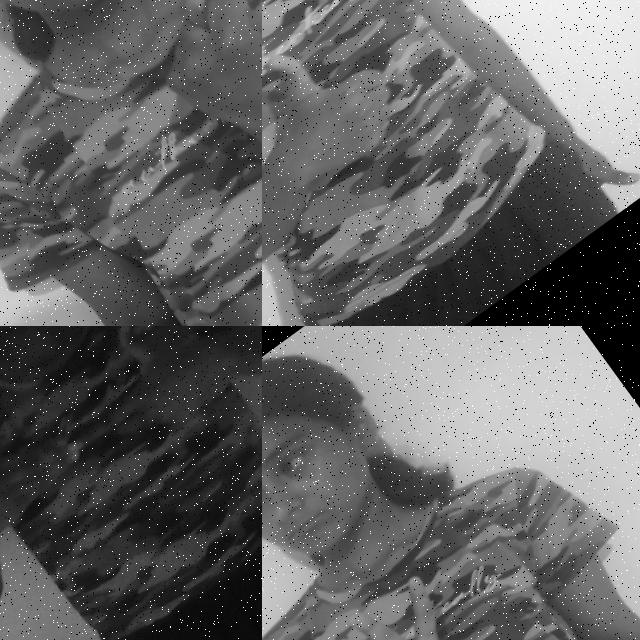Dulya: (127, 0, 262, 176)
Five Fathers: (0, 326, 262, 581)
Moutza: (278, 534, 542, 640)
Thumbs Up: (262, 0, 433, 213)
